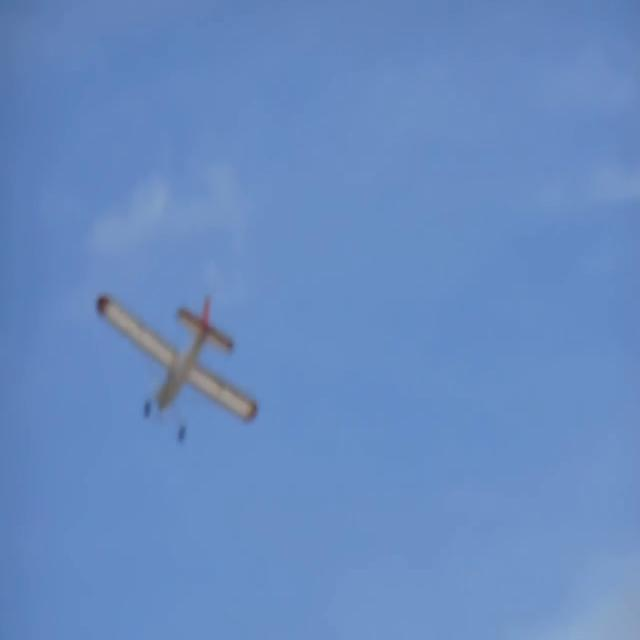iha: (97, 290, 257, 444)
